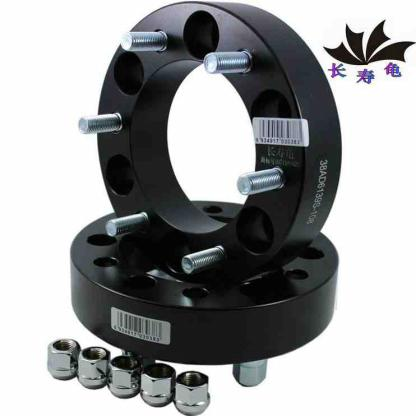FOD: (91, 0, 346, 289), (63, 194, 348, 367), (75, 342, 112, 393), (106, 351, 143, 402), (45, 335, 82, 386)
